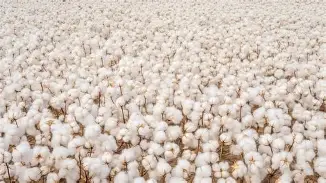crops: (0, 0, 323, 182)
